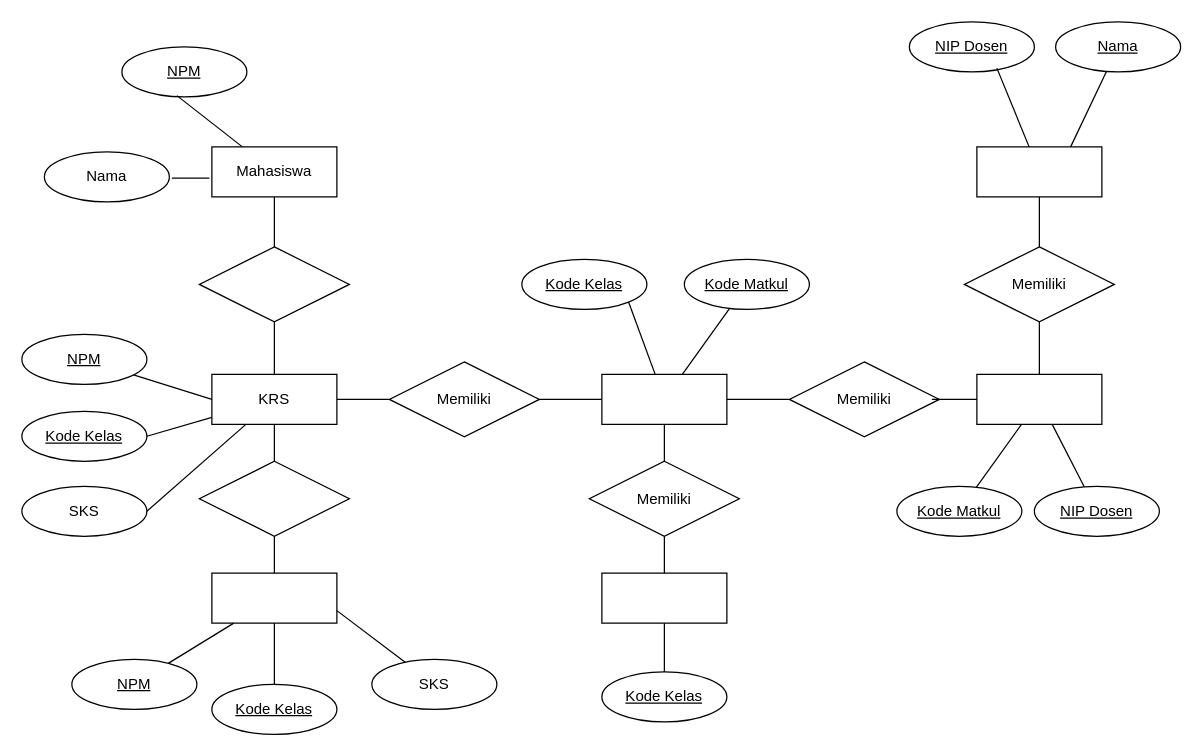
The diagram is 1203 pixels wide and 756 high, and some of its shapes have lost their labels. The centre of each missing label's shape, as x and y in pixels:
"Dosen" goes at pixel 1039 171.
"Jadwal" goes at pixel 664 398.
"Kelas" goes at pixel 664 597.
"KHS" goes at pixel 274 597.
"Matakuliah" goes at pixel 1039 398.
"Mengambil" goes at pixel 273 284.
"Menghasilkan" goes at pixel 273 498.
